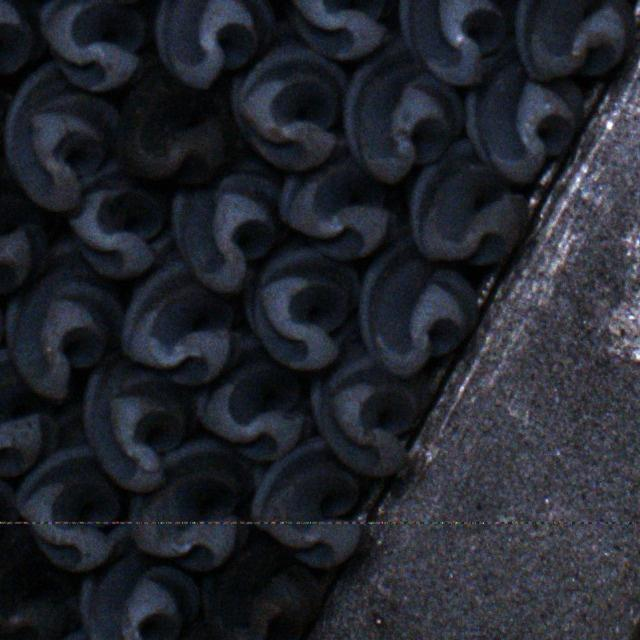tool_b: (5, 234, 124, 396), (2, 61, 122, 212), (227, 17, 346, 168), (344, 37, 465, 184), (358, 235, 477, 374), (122, 242, 236, 387), (170, 154, 284, 294), (306, 340, 420, 478), (193, 329, 311, 461), (245, 241, 363, 370), (411, 140, 531, 266), (82, 355, 188, 490), (463, 62, 580, 184), (120, 64, 238, 183), (279, 147, 399, 261), (202, 538, 325, 638), (129, 441, 262, 523), (68, 169, 168, 276), (78, 551, 200, 637), (154, 0, 274, 87), (40, 0, 151, 90), (510, 1, 630, 82), (254, 438, 366, 521), (398, 0, 507, 84), (14, 445, 125, 522), (0, 532, 78, 640), (0, 349, 57, 477), (278, 0, 394, 59), (0, 177, 47, 294), (22, 524, 133, 572), (0, 0, 42, 84)
